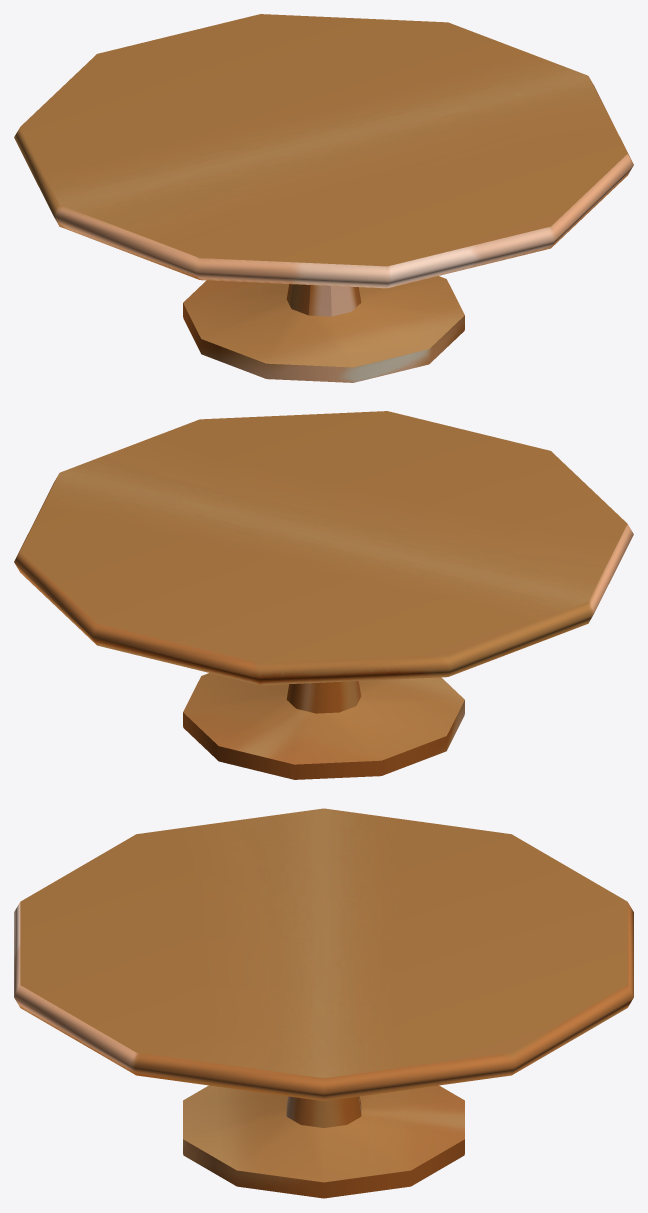
The model's file is Copper_Display_Large.fbx.
The picture shows the model from 3 angles, top to bottom: view 1: azimuth 30°, elevation 25°; view 2: azimuth 150°, elevation 25°; view 3: azimuth 270°, elevation 25°; orthographic projection. The views are drawn at different scales.
Visible parts, largest first — view 1: Copper_Display_Large; view 2: Copper_Display_Large; view 3: Copper_Display_Large.
Boxes of the visible parts, <box> form: Copper_Display_Large: <box>14,14,633,382</box>; Copper_Display_Large: <box>14,411,633,779</box>; Copper_Display_Large: <box>14,808,633,1198</box>.
Bounding box in the file's own units: 107 × 34.99 × 102.
